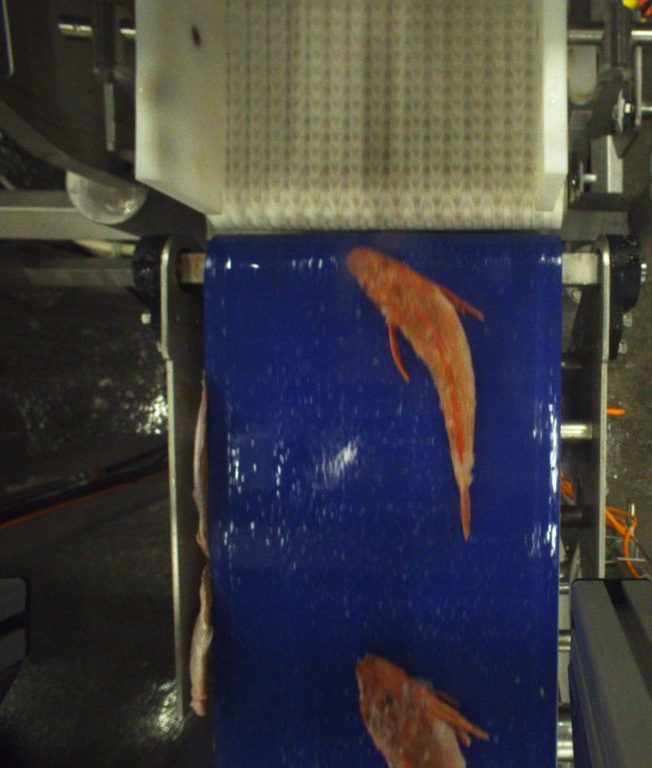GUU: (354, 651, 485, 765)
